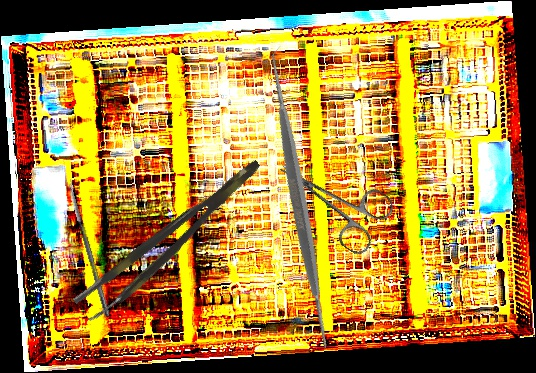Iris Scissors: (263, 137, 399, 259)
Spatula Surgical: (138, 39, 461, 362)
Surgical Spoon: (65, 178, 112, 318)
Tissue Forceps: (71, 156, 275, 326)
